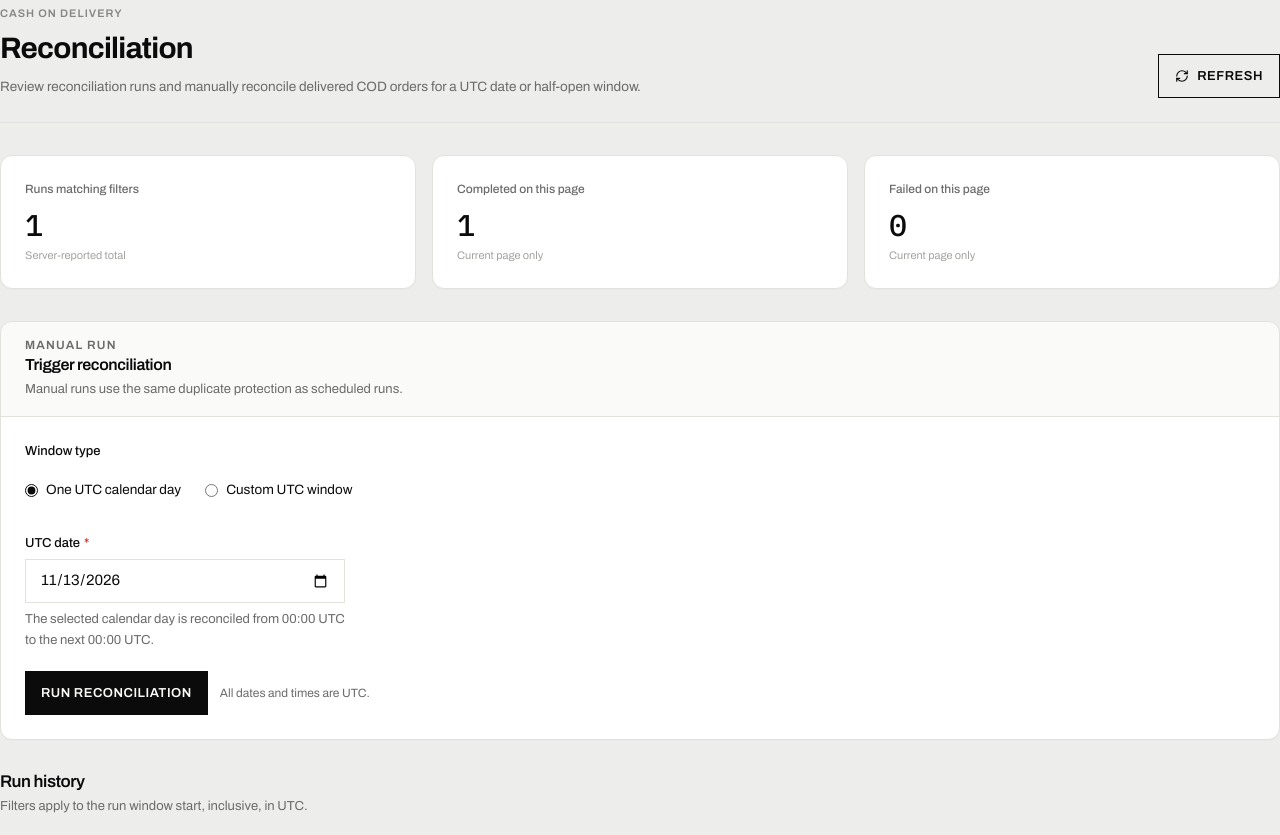
it: Admin COD reconciliation dashboard › shows a useful duplicate conflict without treating it as success
The image size is (1280, 835).
Click the button "Run reconciliation": (116, 693) [25,671,208,715]
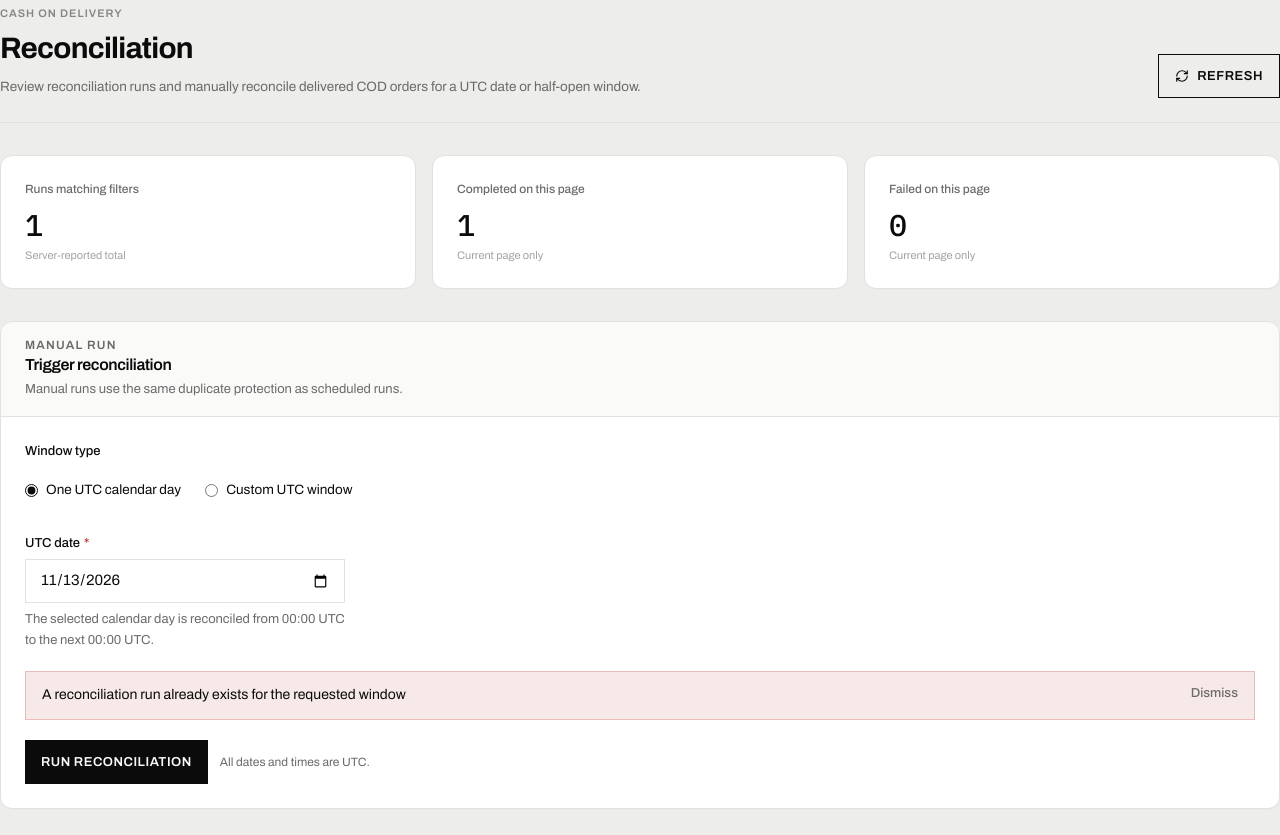
expect the text "A reconciliation run already exists for the requested window" is shown: met, box [42,687,406,702]
